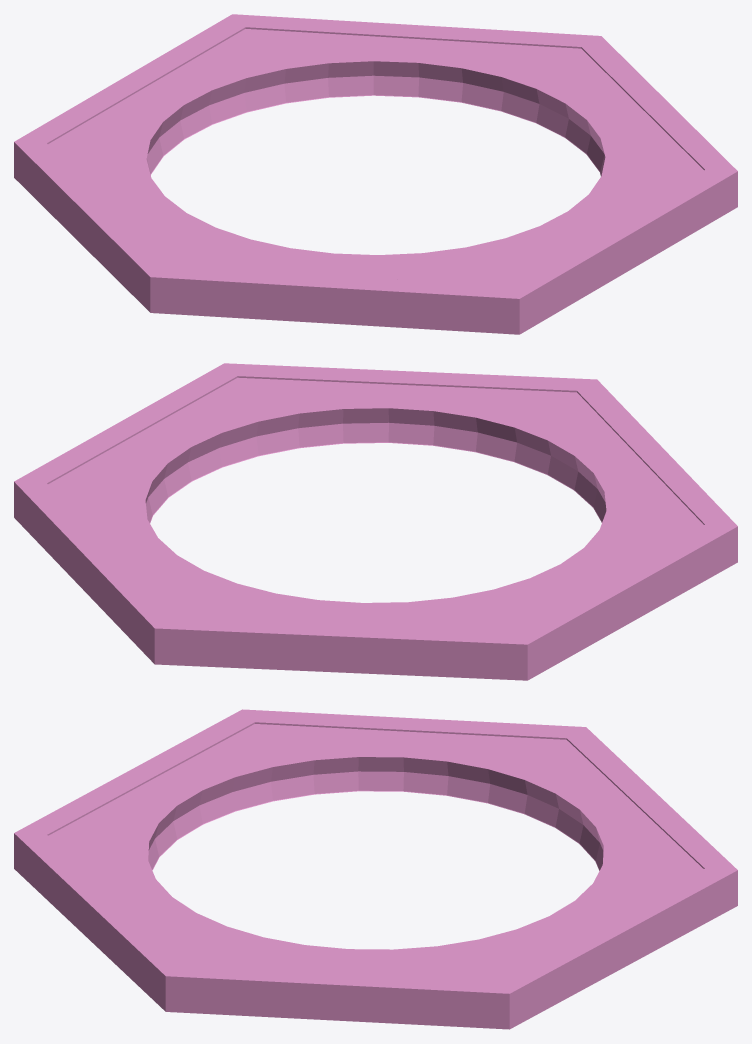
File: Platform_hole_1.fbx
The picture shows the model from 3 angles, top to bottom: view 1: azimuth 30°, elevation 25°; view 2: azimuth 150°, elevation 25°; view 3: azimuth 270°, elevation 25°; orthographic projection.
Visible parts, largest first — view 1: Cube.002; view 2: Cube.002; view 3: Cube.002.
Part boxes in pixels (left/top/right/bottom): Cube.002: left=14, top=14, right=737, bottom=334; Cube.002: left=14, top=363, right=737, bottom=680; Cube.002: left=14, top=709, right=737, bottom=1029.
Bounding box in the file's own units: 31.96 × 1.87 × 34.38.
